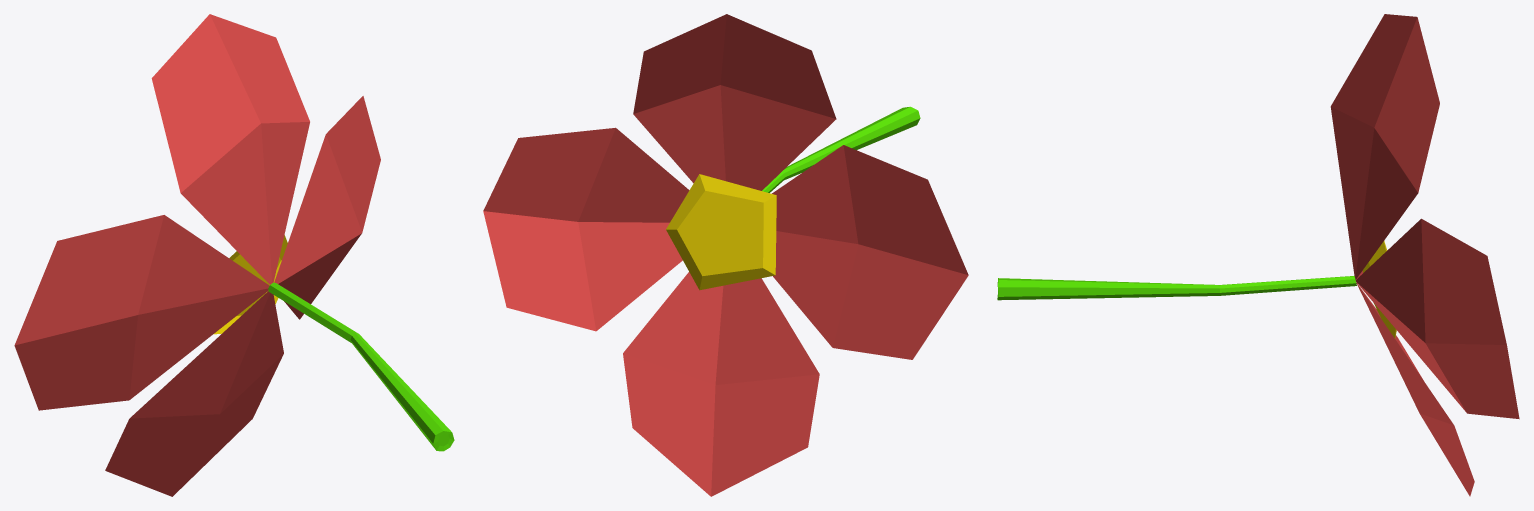
Rendered from flower.002.fbx.
The picture shows the model from 3 angles, left to right: view 1: azimuth 30°, elevation 25°; view 2: azimuth 150°, elevation 25°; view 3: azimuth 270°, elevation 25°; orthographic projection. The views are drawn at different scales.
Parts seen in each view (by area): view 1: Plane; view 2: Plane; view 3: Plane.
Boxes of the visible parts, x1,y1,x2,y2 form: Plane: (14, 14, 454, 496); Plane: (483, 14, 968, 496); Plane: (997, 14, 1519, 496).
Size of the model in its own units: 675 by 723 by 706.
